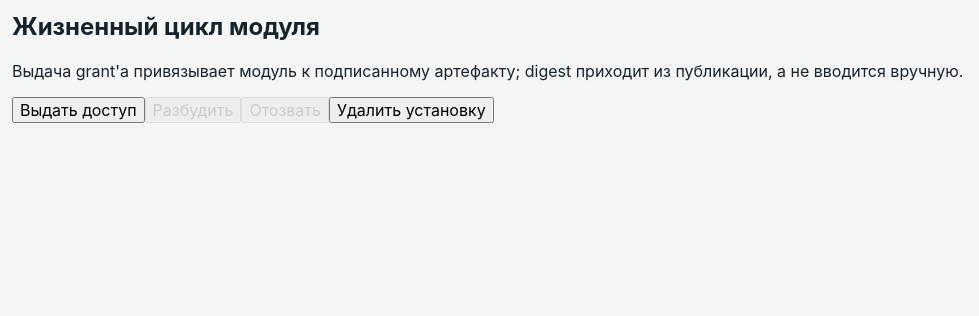
Test: PluginLifecycle › grant отправляет digest артефакта и показывает выданные границы
Click the button "Выдать доступ" at (78, 110), box [12,97,145,123]
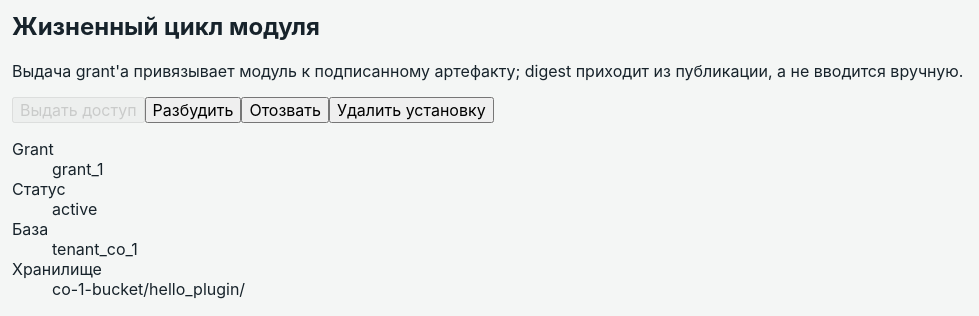
Check: the text "grant_1" is shown, box [52,159,104,179]
Check: the text "tenant_co_1" is shown, box [52,239,138,259]
